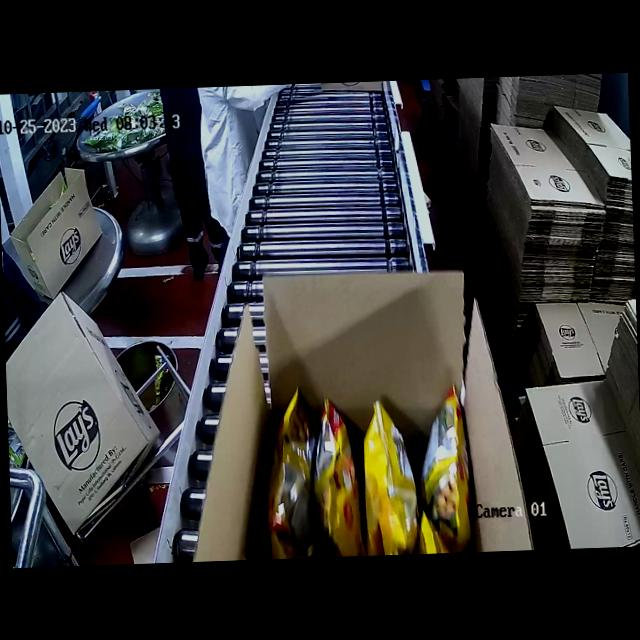salted: (246, 388, 454, 560)
